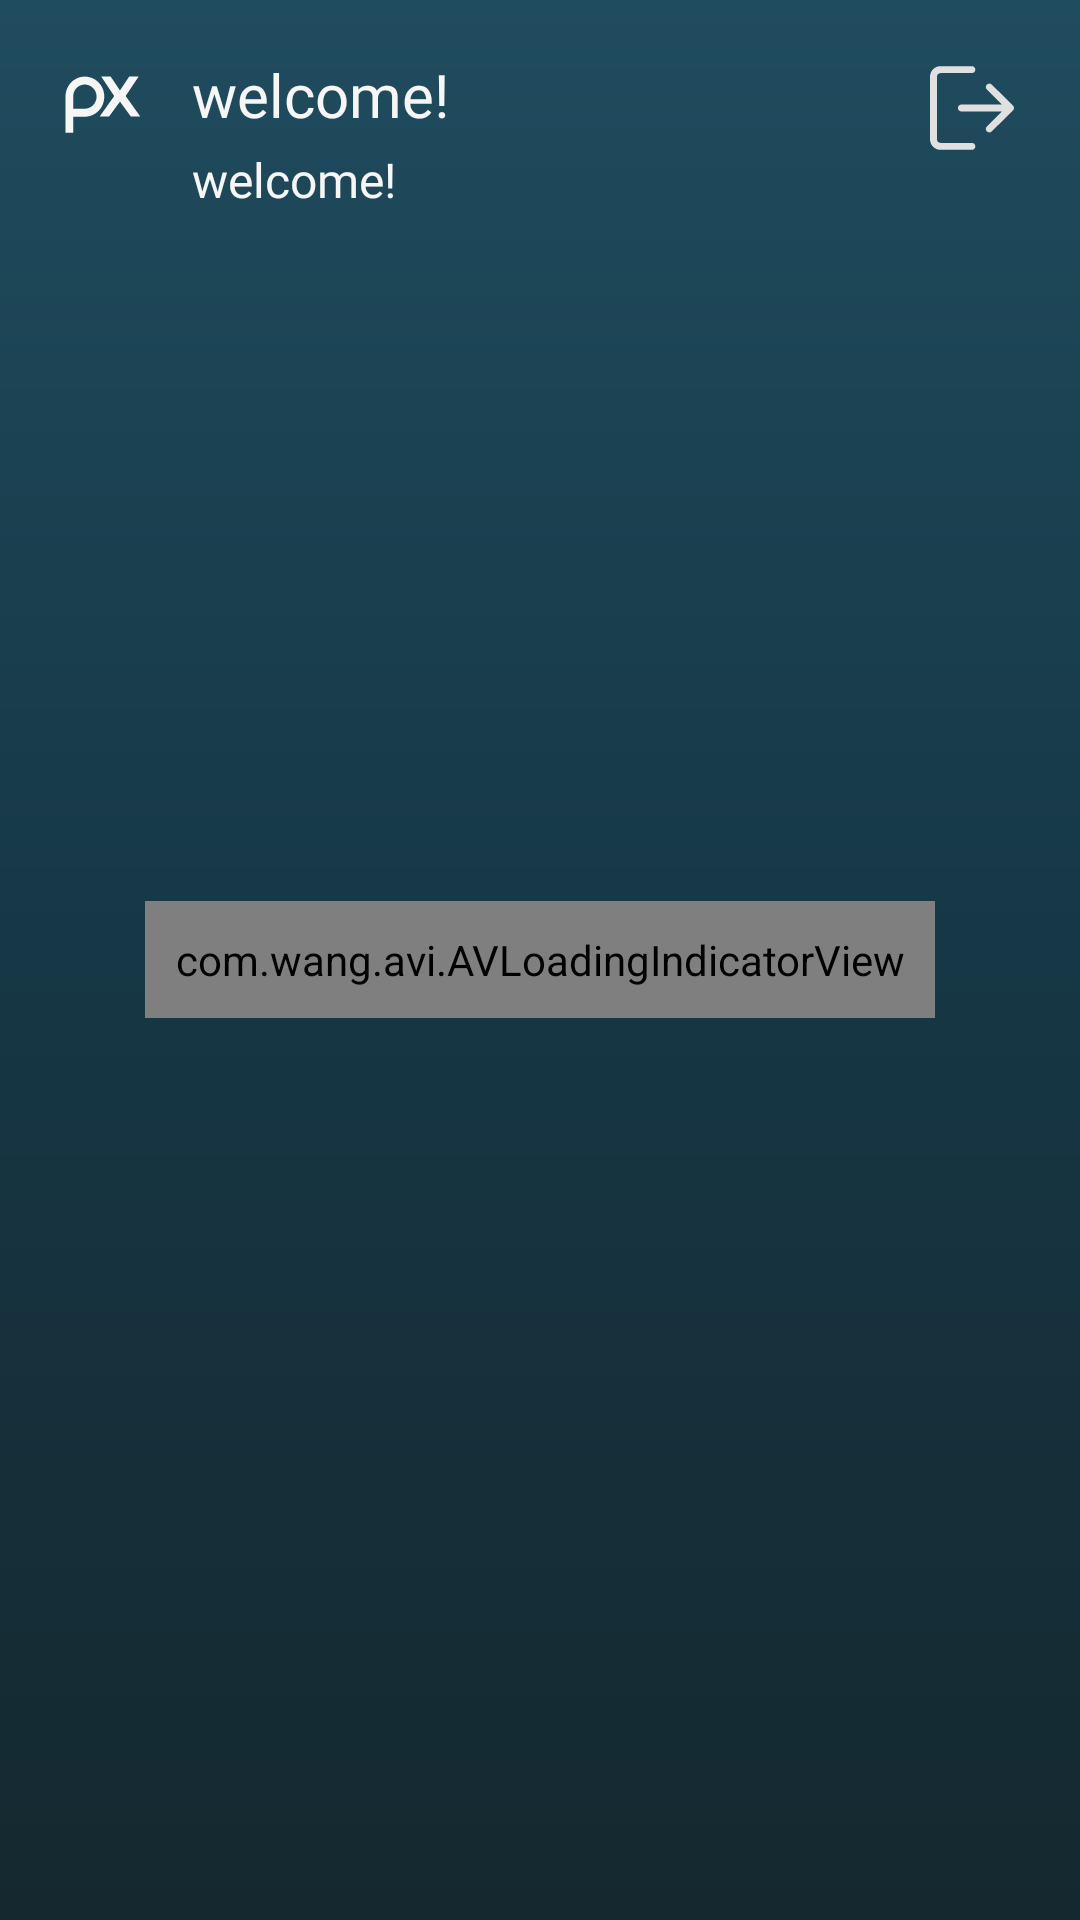

Where to tap for icons on this 1080 x 1920 app screen, as (x,y):
log out: (972,108)
